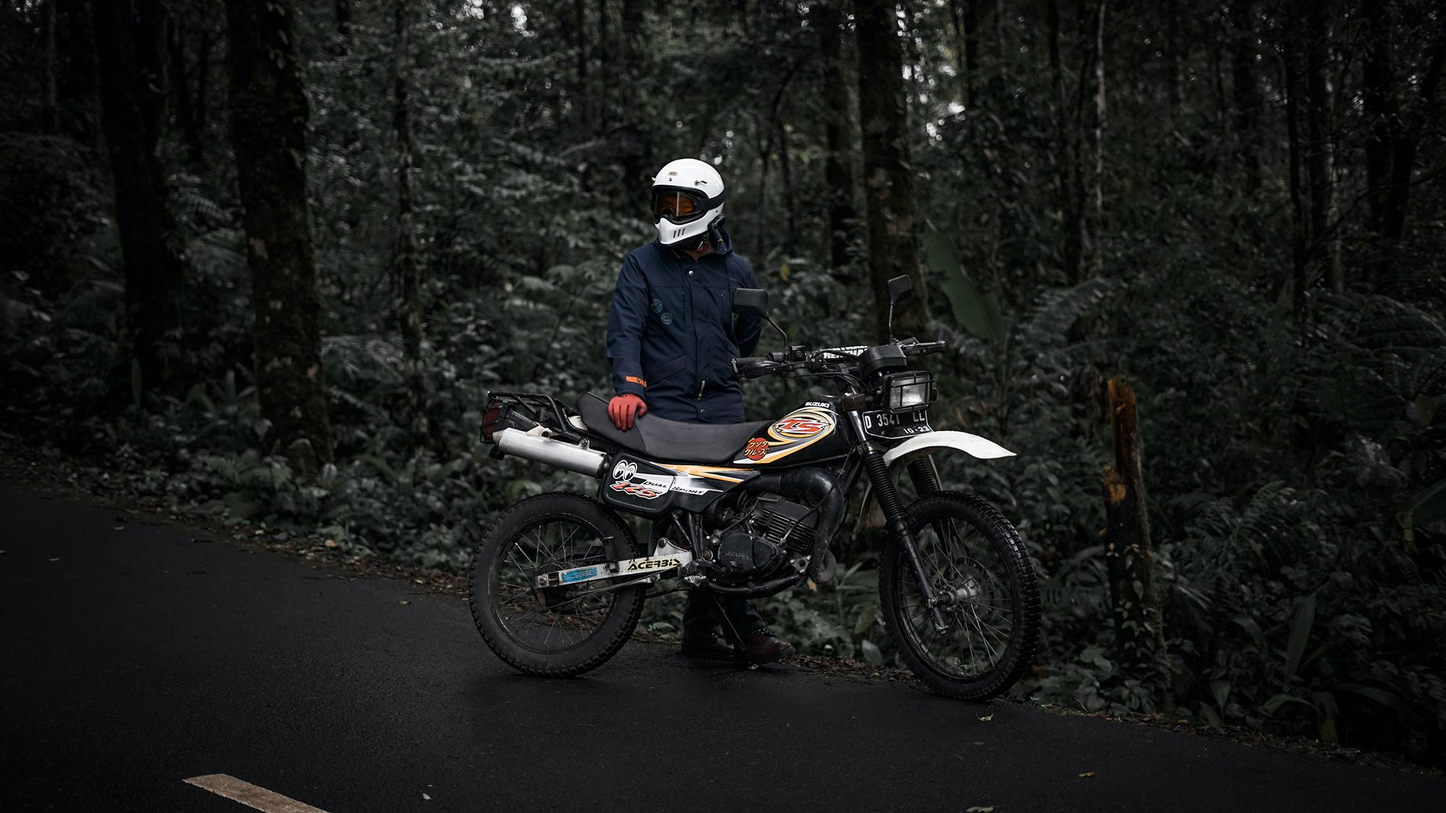helmet: (649, 157, 726, 249)
